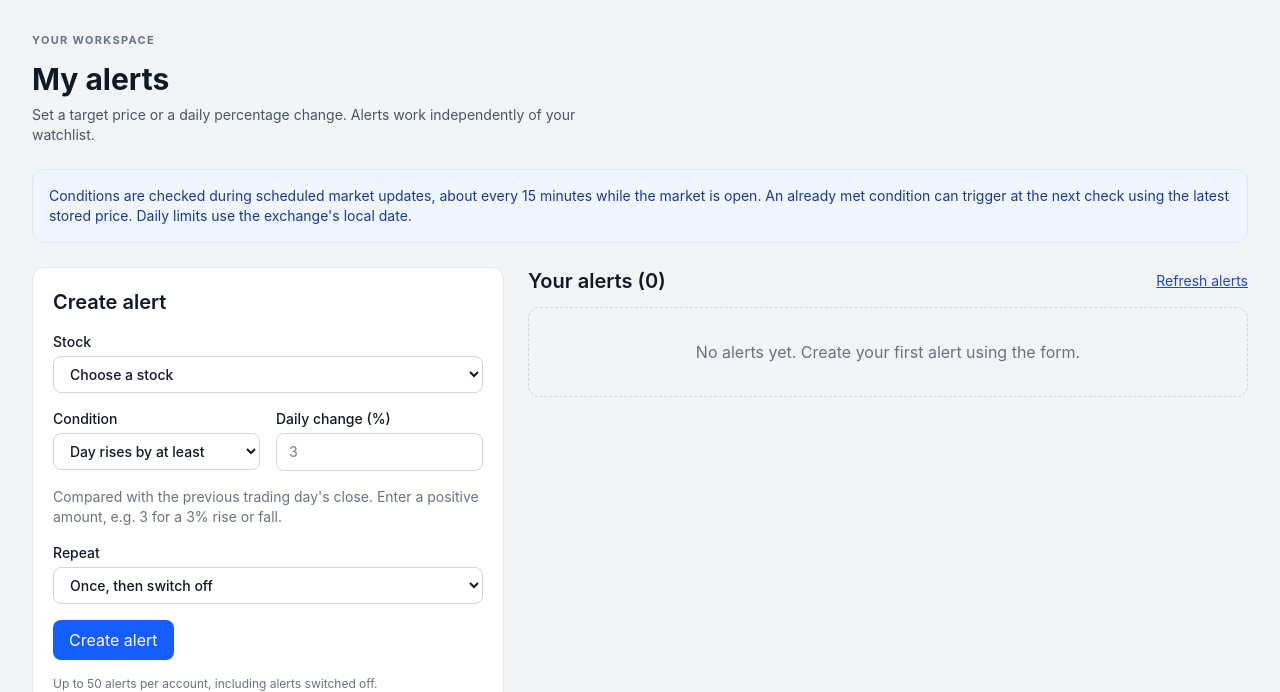
Scenario: Alerts › converts a positive daily fall input into a negative backend threshold
Select "Apple · AAPL (XNAS) · USD" in the dropdown labelled "Stock": (268, 374) x1=53 y1=356 x2=483 y2=392
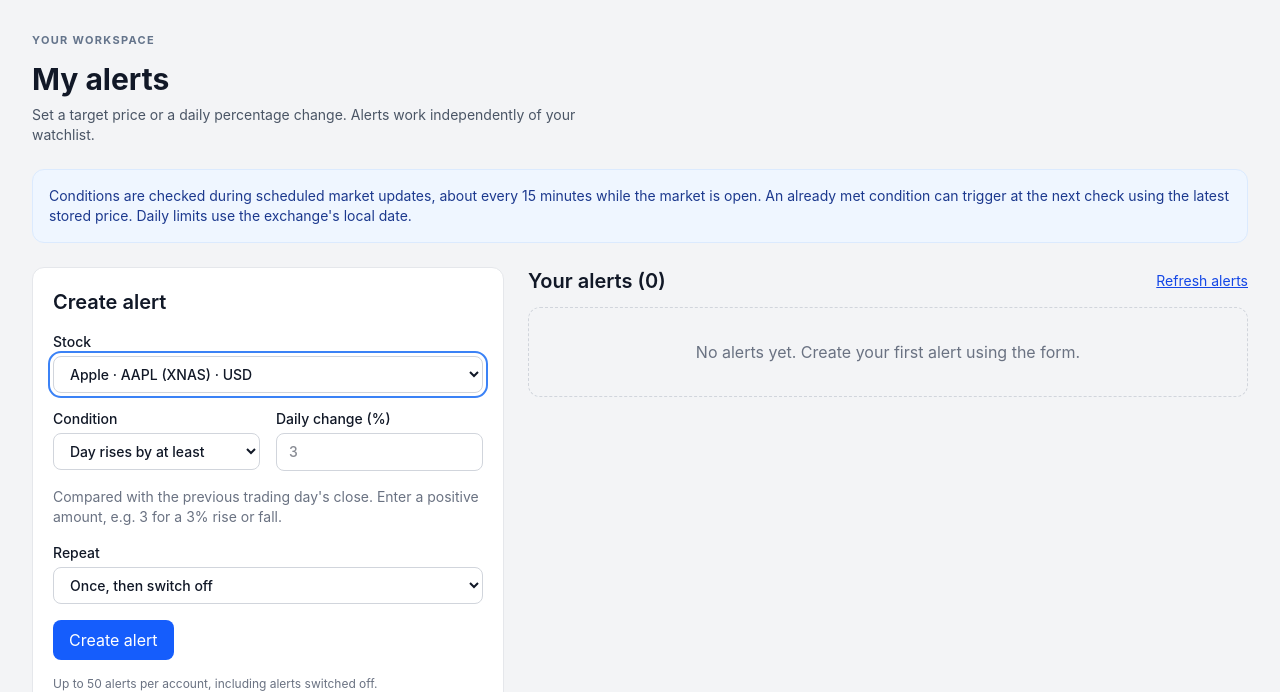
Select "Day falls by at least" in the dropdown labelled "Condition": (156, 451) x1=53 y1=432 x2=260 y2=470
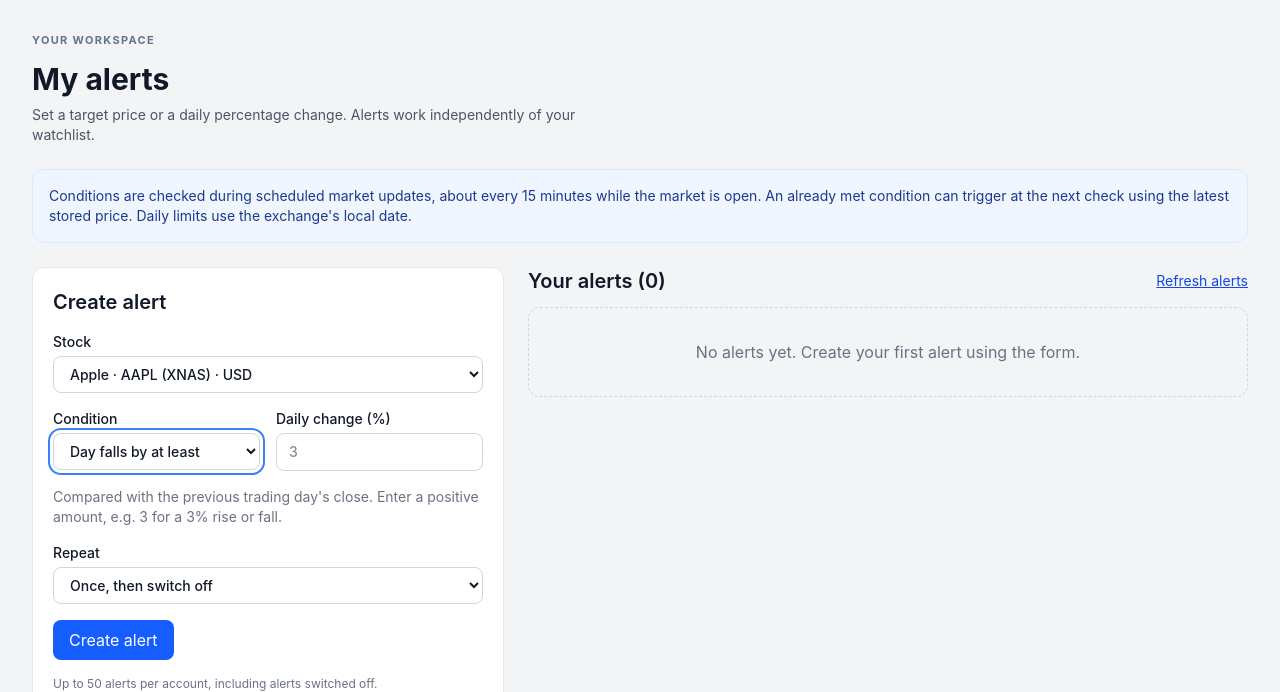
In the number field labelled "Daily change (%)": (380, 452) x1=276 y1=432 x2=483 y2=470, type "4"
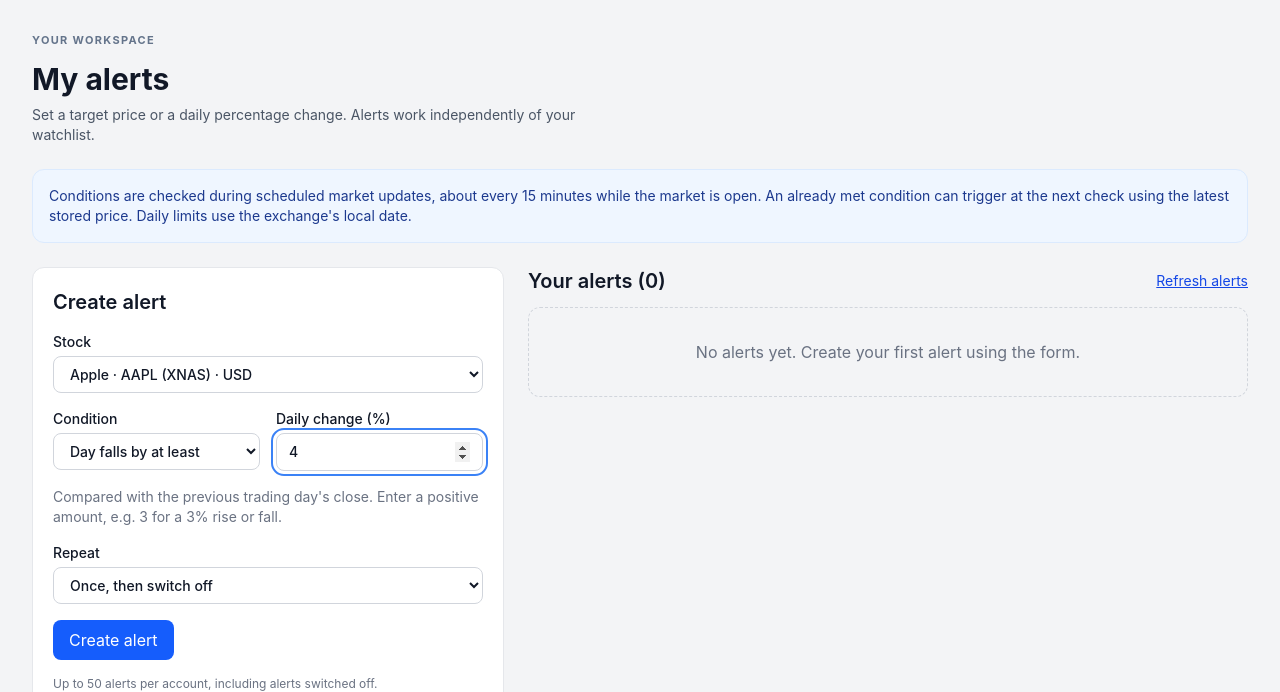
Select "Once per trading day" in the dropdown labelled "Repeat": (268, 585) x1=53 y1=566 x2=483 y2=604
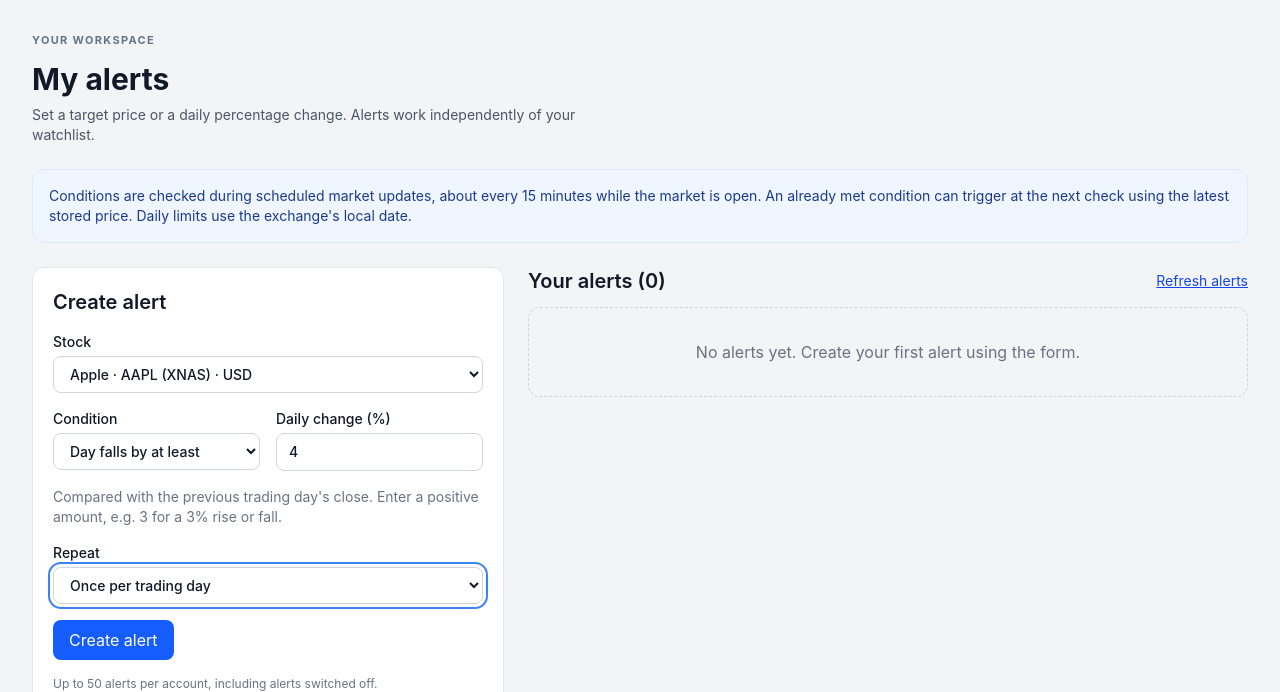
Click the button "Create alert": (113, 640) x1=53 y1=620 x2=174 y2=660
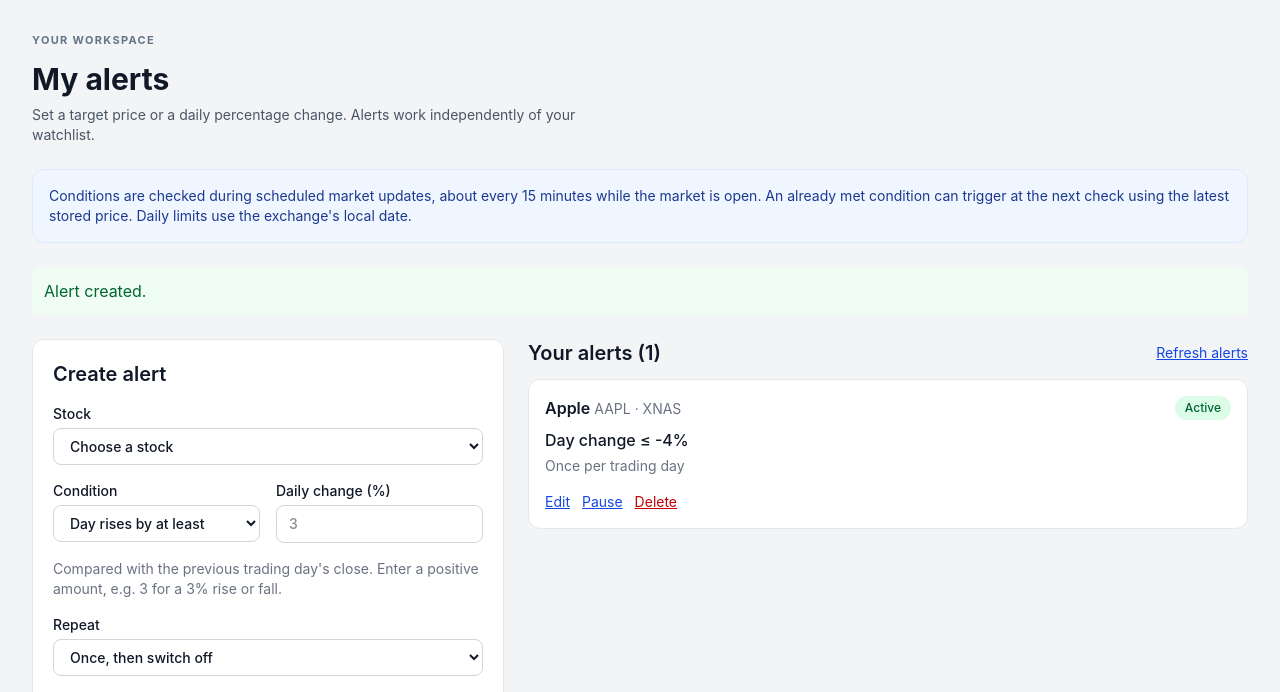
expect the text "Day change ≤ -4%" is shown: met, box x1=545 y1=428 x2=689 y2=452
